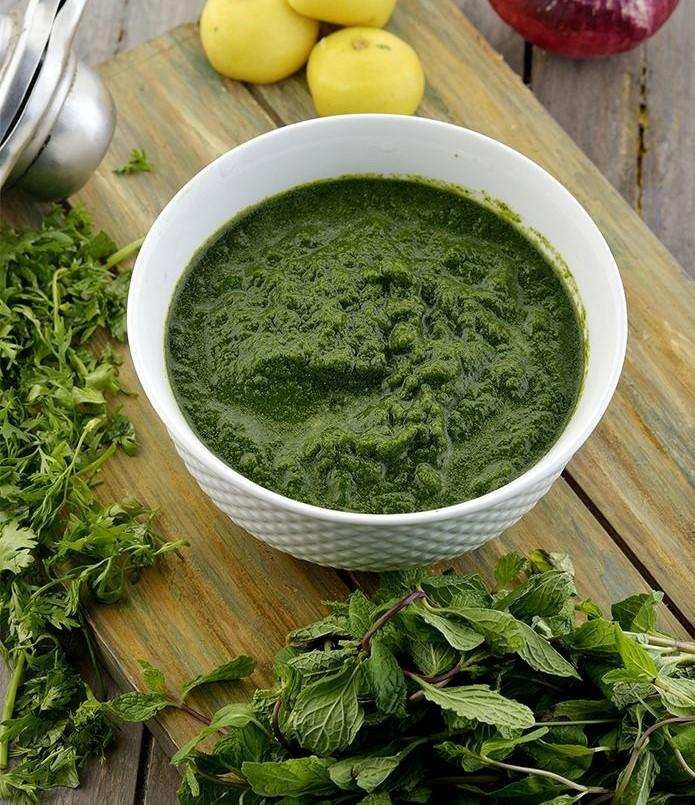GreenChutney: (165, 177, 581, 513)
